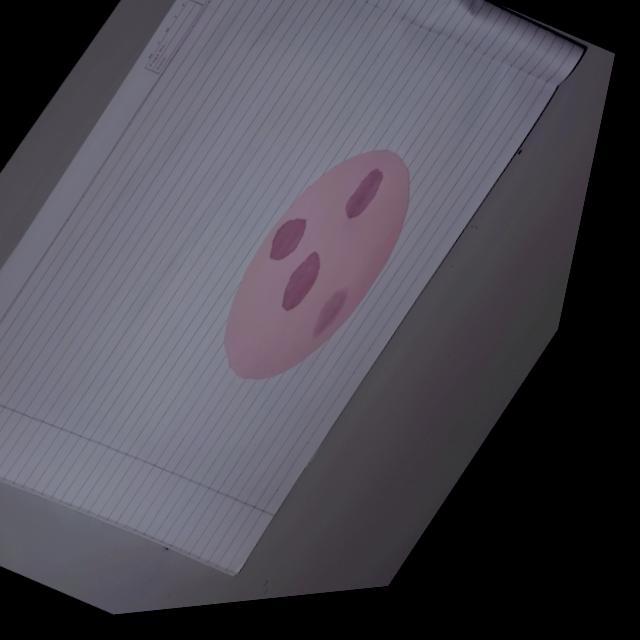BlueColor: (281, 251, 319, 311), (344, 169, 383, 219), (312, 287, 348, 338), (269, 218, 306, 260)
